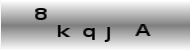8: (32, 7, 48, 20)
A: (134, 22, 152, 37)
J: (103, 25, 112, 43)
k: (56, 24, 71, 39)
q: (82, 27, 96, 41)
